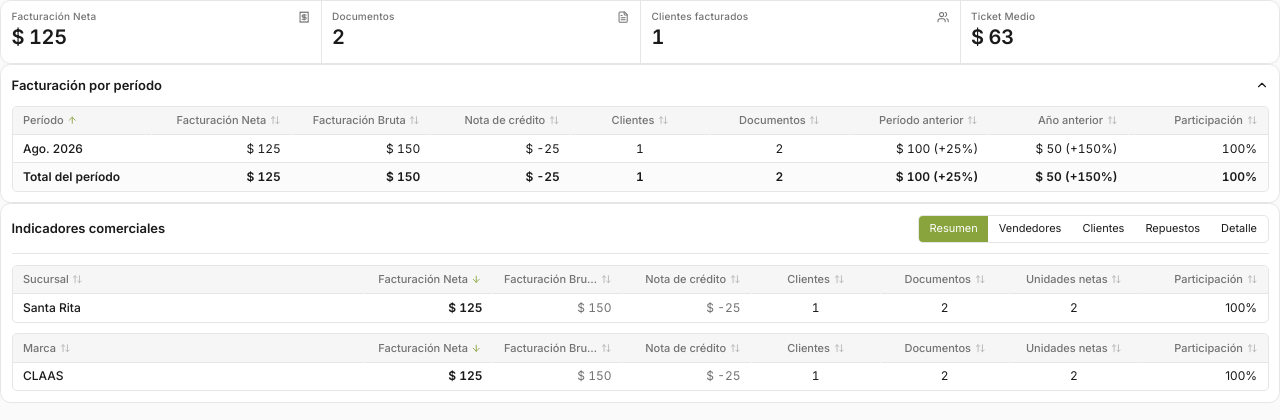
Test case: Ventas de Repuestos › usa Ticket Medio en el KPI y en Clientes, conservando el importe por documento
Expected: the text "CLAAS" is shown, [12,362,364,390]
Expected: the text "$ 63" is shown, [971,25,1014,49]
Click the button "Clientes" in the row of "Indicadores comerciales": click(1103, 228) [1072,216,1135,242]
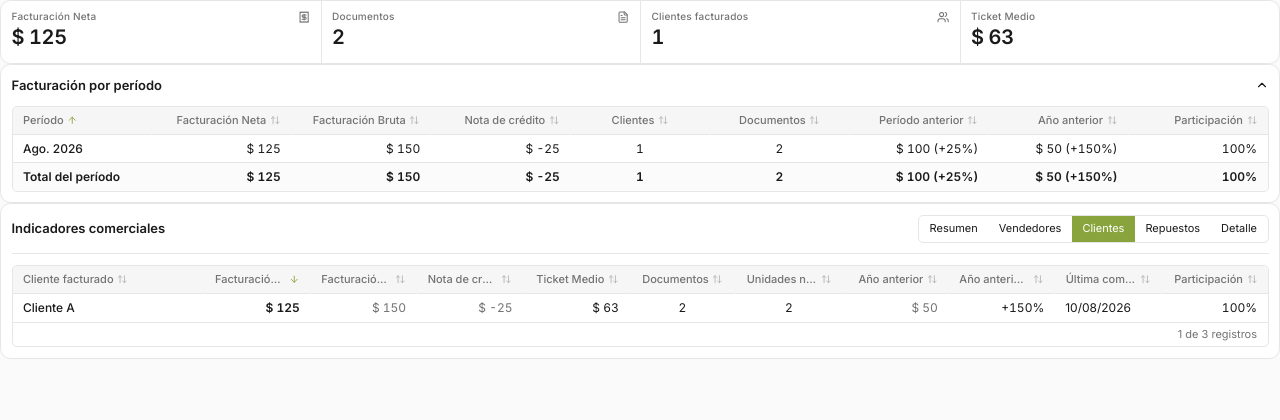
Result: the text "Cliente A" is shown at [12,294,204,322]
Result: the cell "$ 63" is shown at [523,294,629,322]
